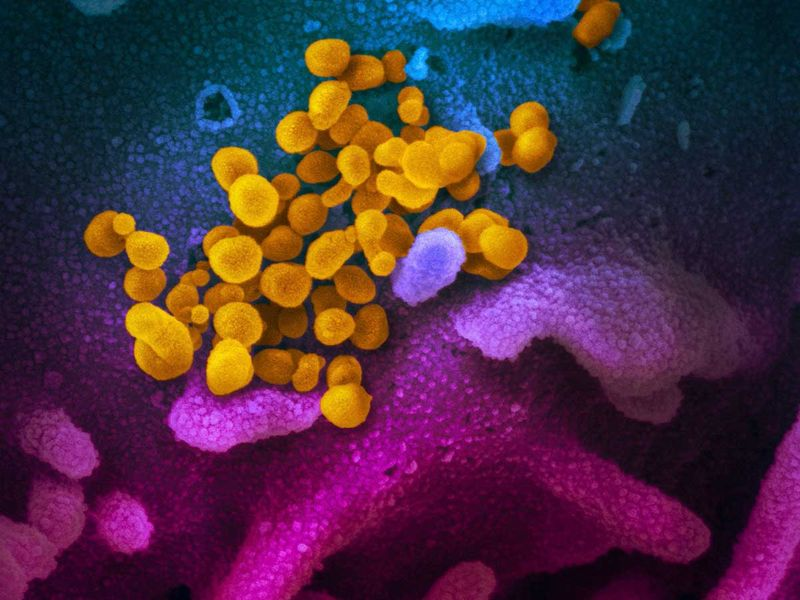COVID19: (69, 35, 552, 397)
